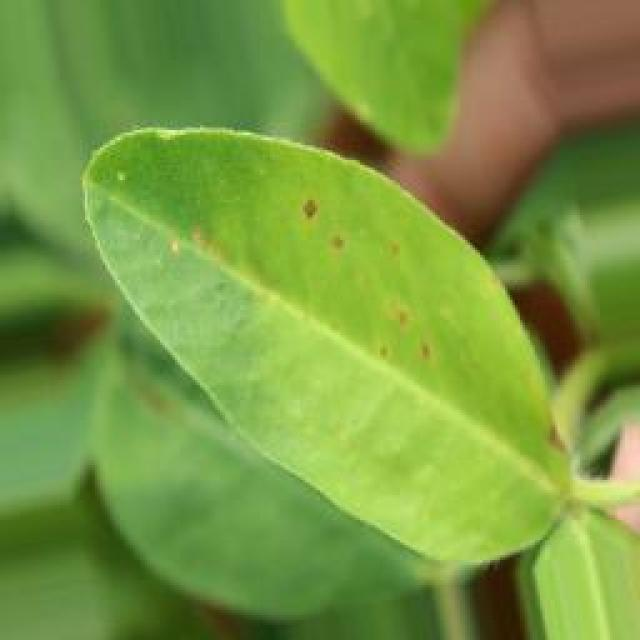Sigatoka: (282, 192, 369, 268), (374, 292, 439, 386), (168, 216, 242, 277), (535, 406, 580, 471), (378, 232, 402, 268)
